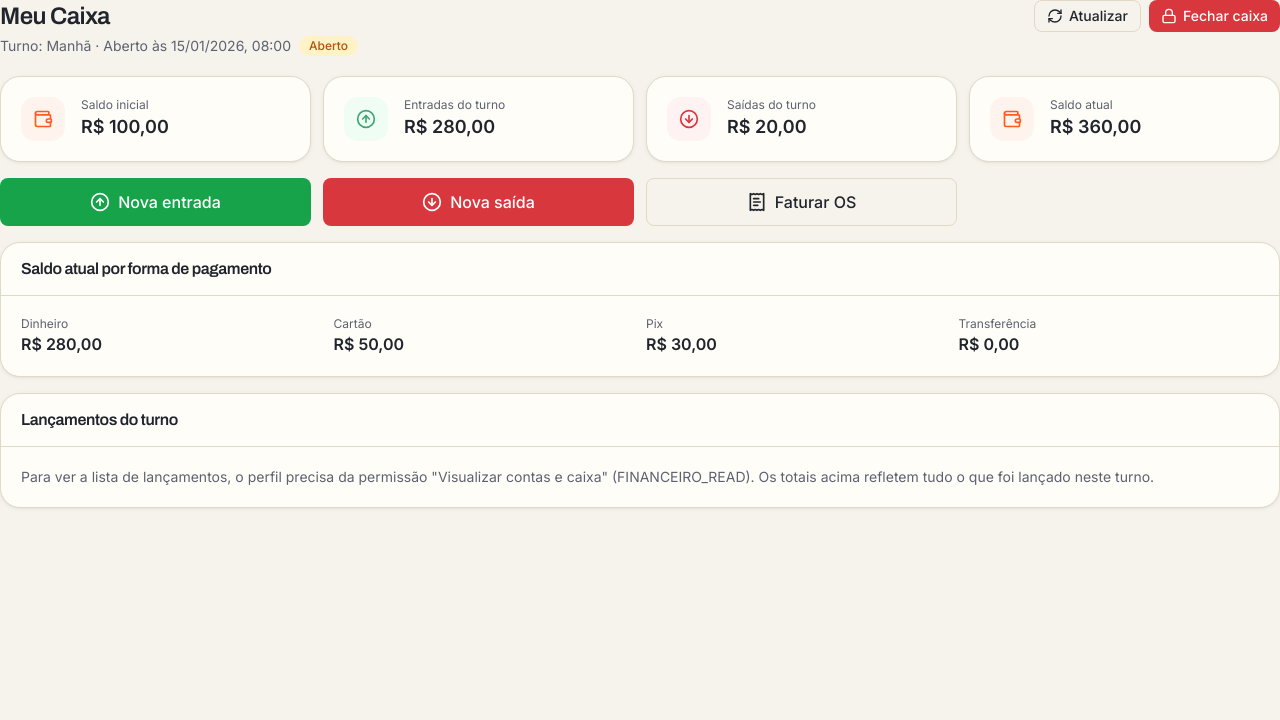
Test: MeuCaixaPage › opens the entrada modal fixed to tipo ENTRADA
The image size is (1280, 720).
Click the button "Nova entrada": (156, 202) [0, 178, 311, 226]
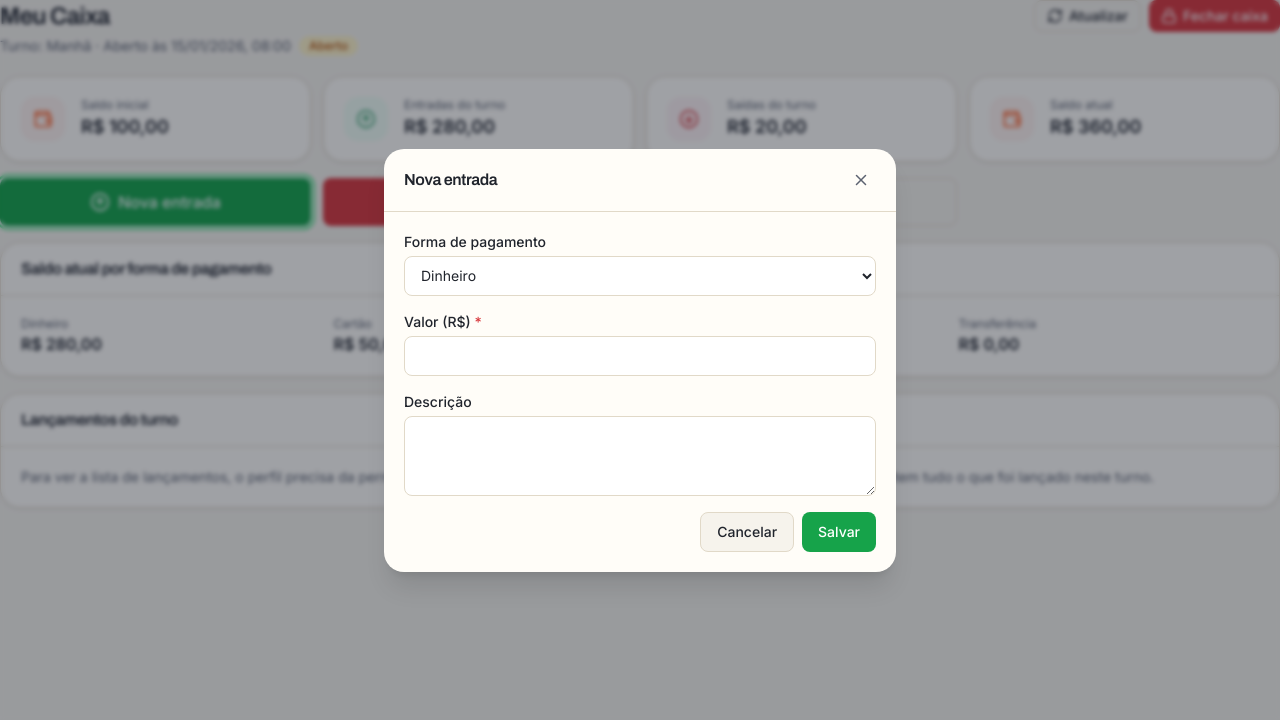
Check: the heading "Nova entrada" is shown, box [404, 168, 497, 192]
